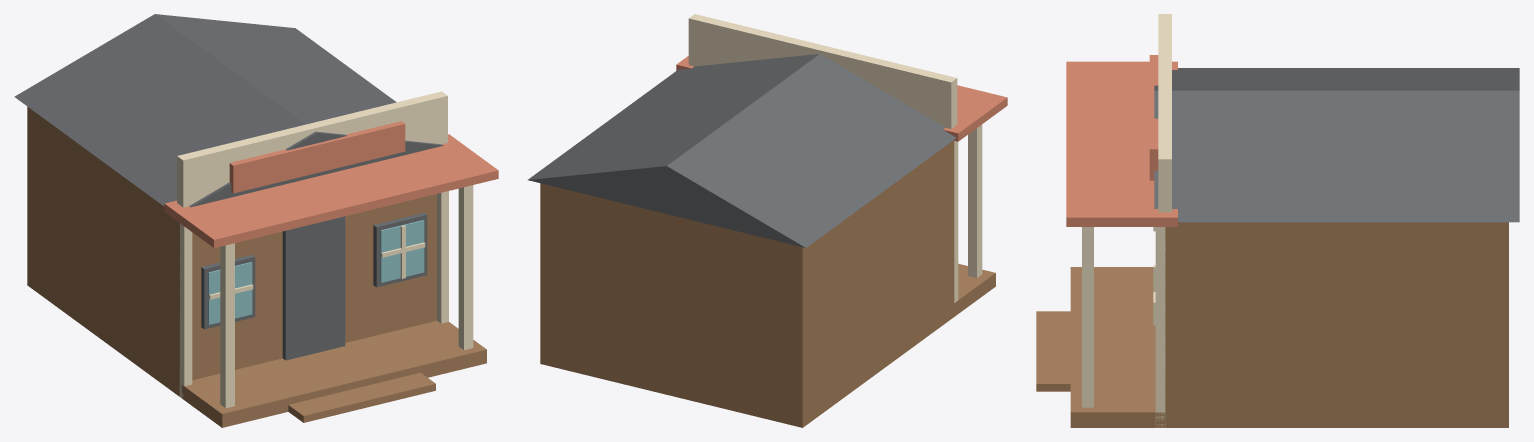
File: frontier-trading-store__125.glb
The picture shows the model from 3 angles, left to right: view 1: azimuth 30°, elevation 25°; view 2: azimuth 150°, elevation 25°; view 3: azimuth 270°, elevation 25°; orthographic projection. The views are drawn at different scales.
Parts seen in each view (by area): view 1: frontier-post-trading-store; view 2: frontier-post-trading-store; view 3: frontier-post-trading-store.
Part boxes in pixels (bbox=[...]): frontier-post-trading-store: bbox=[14, 14, 498, 427]; frontier-post-trading-store: bbox=[528, 14, 1007, 427]; frontier-post-trading-store: bbox=[1036, 14, 1519, 427].
Bounding box in the file's own units: 4.3 × 3.45 × 5.62.
